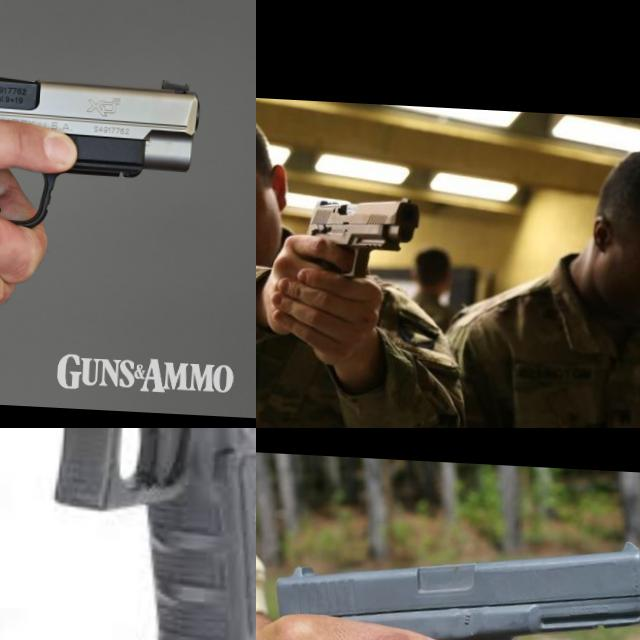handgun: (0, 428, 256, 640), (264, 519, 640, 640), (0, 44, 212, 239), (298, 188, 424, 284)
